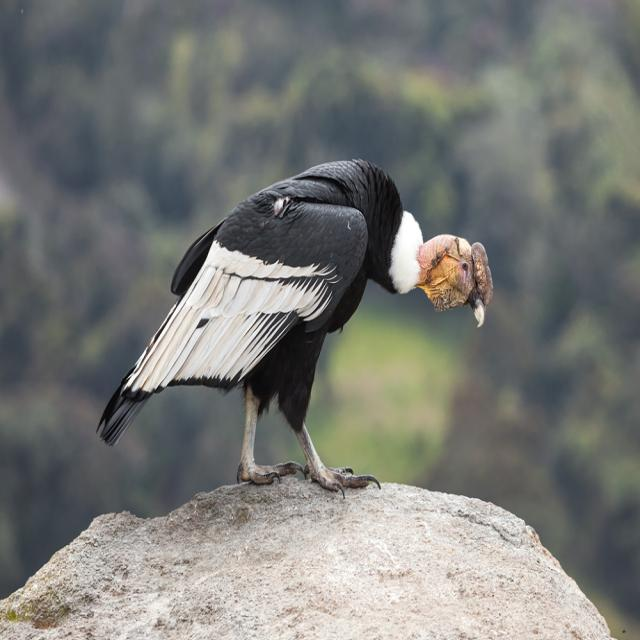Carnivorous: (95, 158, 492, 493)
